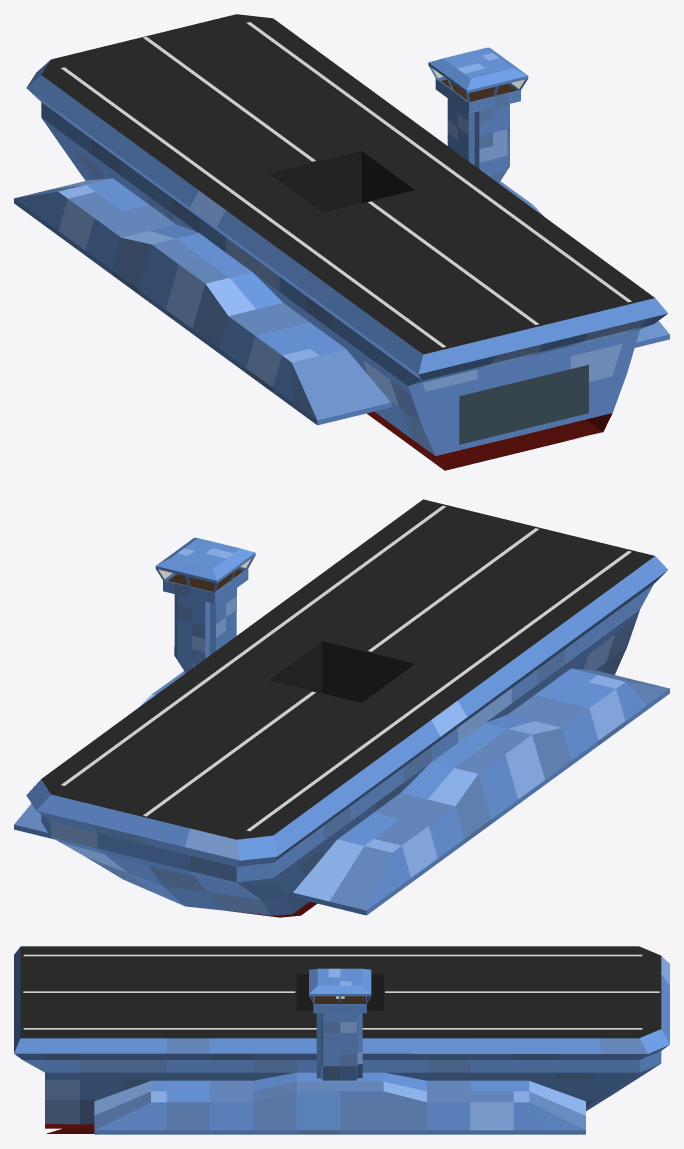
File: Land carrier body.glb
3 views of the same model, one above another, from view 1: azimuth 30°, elevation 25°; view 2: azimuth 150°, elevation 25°; view 3: azimuth 270°, elevation 25° (orthographic). The views are drawn at different scales.
Parts seen in each view (by area): view 1: Carrier Body, Ramp outer, Plane.002, Plane.003, Plane, Plane.001, Glass; view 2: Carrier Body, Plane.002, Plane.003, Plane, Plane.001, Glass; view 3: Carrier Body, Plane.002, Plane.003, Plane, Plane.001, Cube.001, Glass.
Part boxes in pixels (box(x1,y1,x2,y2)): Carrier Body: box(14, 14, 669, 470); Ramp outer: box(459, 364, 588, 444); Plane.002: box(61, 67, 446, 347); Plane.003: box(246, 22, 631, 302); Plane: box(143, 36, 315, 161); Plane.001: box(368, 201, 539, 324); Glass: box(430, 67, 525, 101); Carrier Body: box(14, 499, 669, 917); Plane.002: box(246, 551, 631, 831); Plane.003: box(61, 505, 446, 785); Plane: box(143, 691, 315, 816); Plane.001: box(368, 528, 538, 651); Glass: box(159, 558, 252, 591); Carrier Body: box(14, 946, 669, 1134); Plane.002: box(23, 954, 642, 956); Plane.003: box(23, 1028, 642, 1029); Plane: box(385, 991, 659, 992); Plane.001: box(23, 991, 295, 992); Cube.001: box(314, 996, 366, 1003); Glass: box(311, 996, 368, 1003).
Bounding box in the file's own units: 76 × 47.6 × 151.
